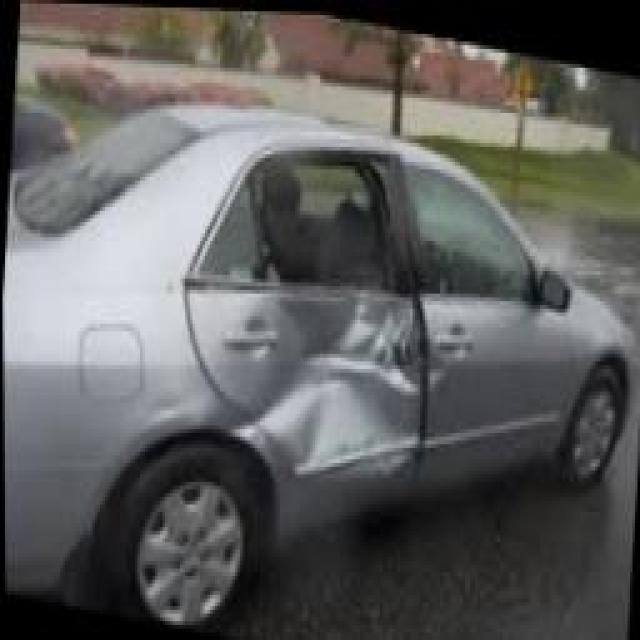replaceable: (232, 280, 428, 505)
